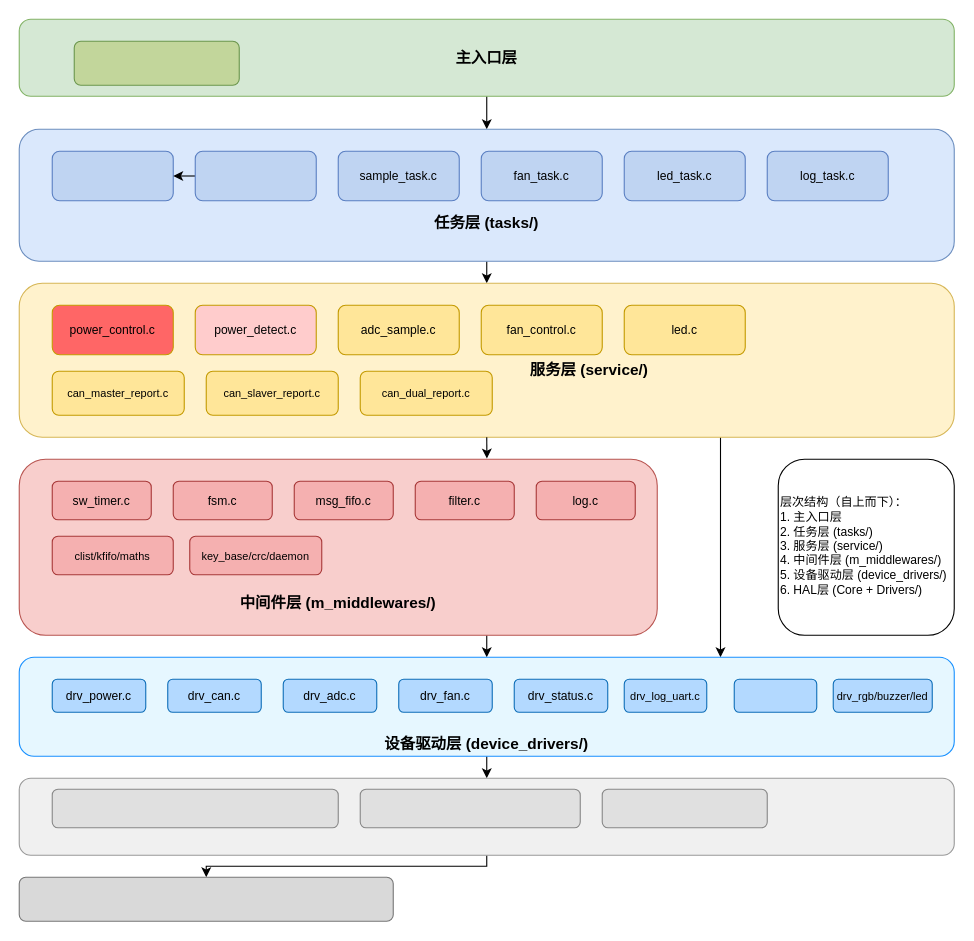
Image size: 974x941. Some labels were removed from this diagram. The centre of each missing label's shape, as x and y in pixels:
"app_main.c app_main()" goes at pixel 156 62.
"can_task.c" goes at pixel 112 175.
"CMSIS Core core_cm4/system_stm32f4xx" goes at pixel 469 808.
"drv_systick.c" goes at pixel 775 695.
"power_task.c" goes at pixel 255 175.
"STM32 HAL can/gpio/adc/tim/usart" goes at pixel 194 808.
"中断处理 stm32f4xx_it.c" goes at pixel 684 808.
"硬件层 GPIO/CAN/ADC/TIM/UART/FAN/NTC" goes at pixel 205 898.
